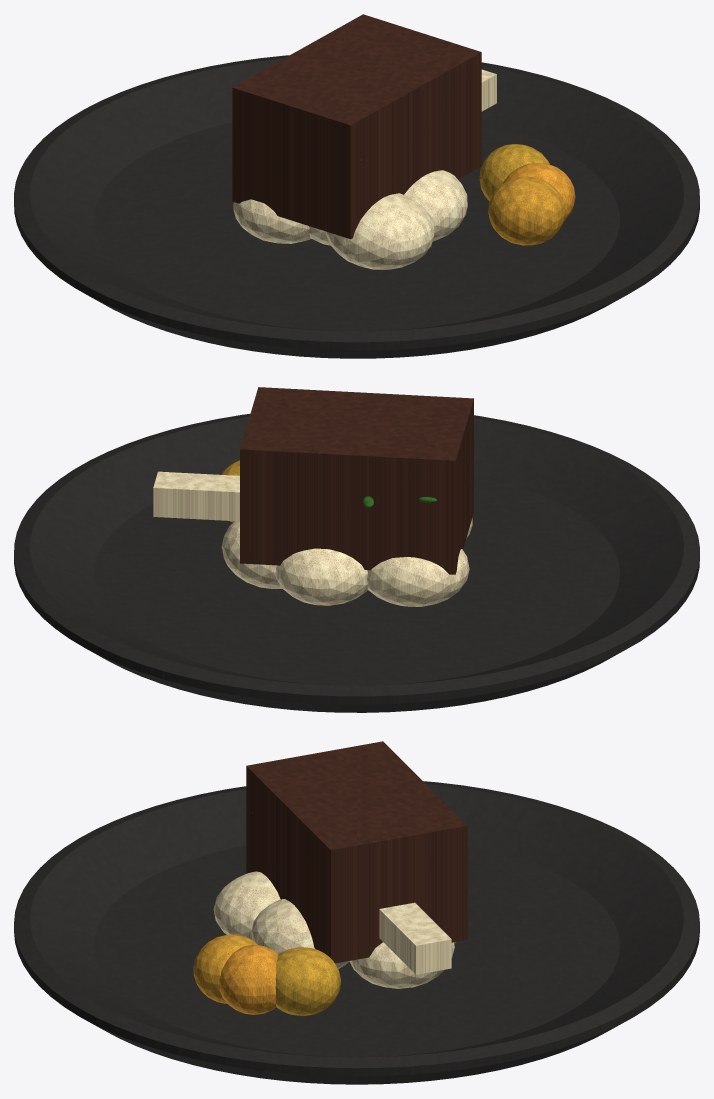
Rendered from costilla-panela.glb.
3 renders of one model, top to bottom at view 1: azimuth 30°, elevation 25°; view 2: azimuth 150°, elevation 25°; view 3: azimuth 270°, elevation 25°, orthographic.
Visible parts, largest first — view 1: part0, part2, part1, part4, part5, part3; view 2: part0, part2, part1; view 3: part0, part2, part1, part5, part3, part4.
Part boxes in pixels (x1=…): part0: x1=14, y1=55, x2=699, y2=358; part2: x1=232, y1=14, x2=481, y2=239; part1: x1=233, y1=69, x2=496, y2=269; part4: x1=488, y1=177, x2=565, y2=245; part5: x1=479, y1=144, x2=549, y2=201; part3: x1=502, y1=163, x2=575, y2=220; part0: x1=14, y1=414, x2=699, y2=712; part2: x1=240, y1=387, x2=473, y2=574; part1: x1=153, y1=471, x2=472, y2=606; part0: x1=14, y1=781, x2=699, y2=1084; part2: x1=246, y1=741, x2=467, y2=963; part1: x1=213, y1=871, x2=456, y2=988; part5: x1=275, y1=947, x2=340, y2=1015; part3: x1=219, y1=945, x2=278, y2=1014; part4: x1=193, y1=934, x2=257, y2=1003.
Bounding box in the file's own units: 0.3 × 0.0845 × 0.3.
7 materials, 7 textured.
